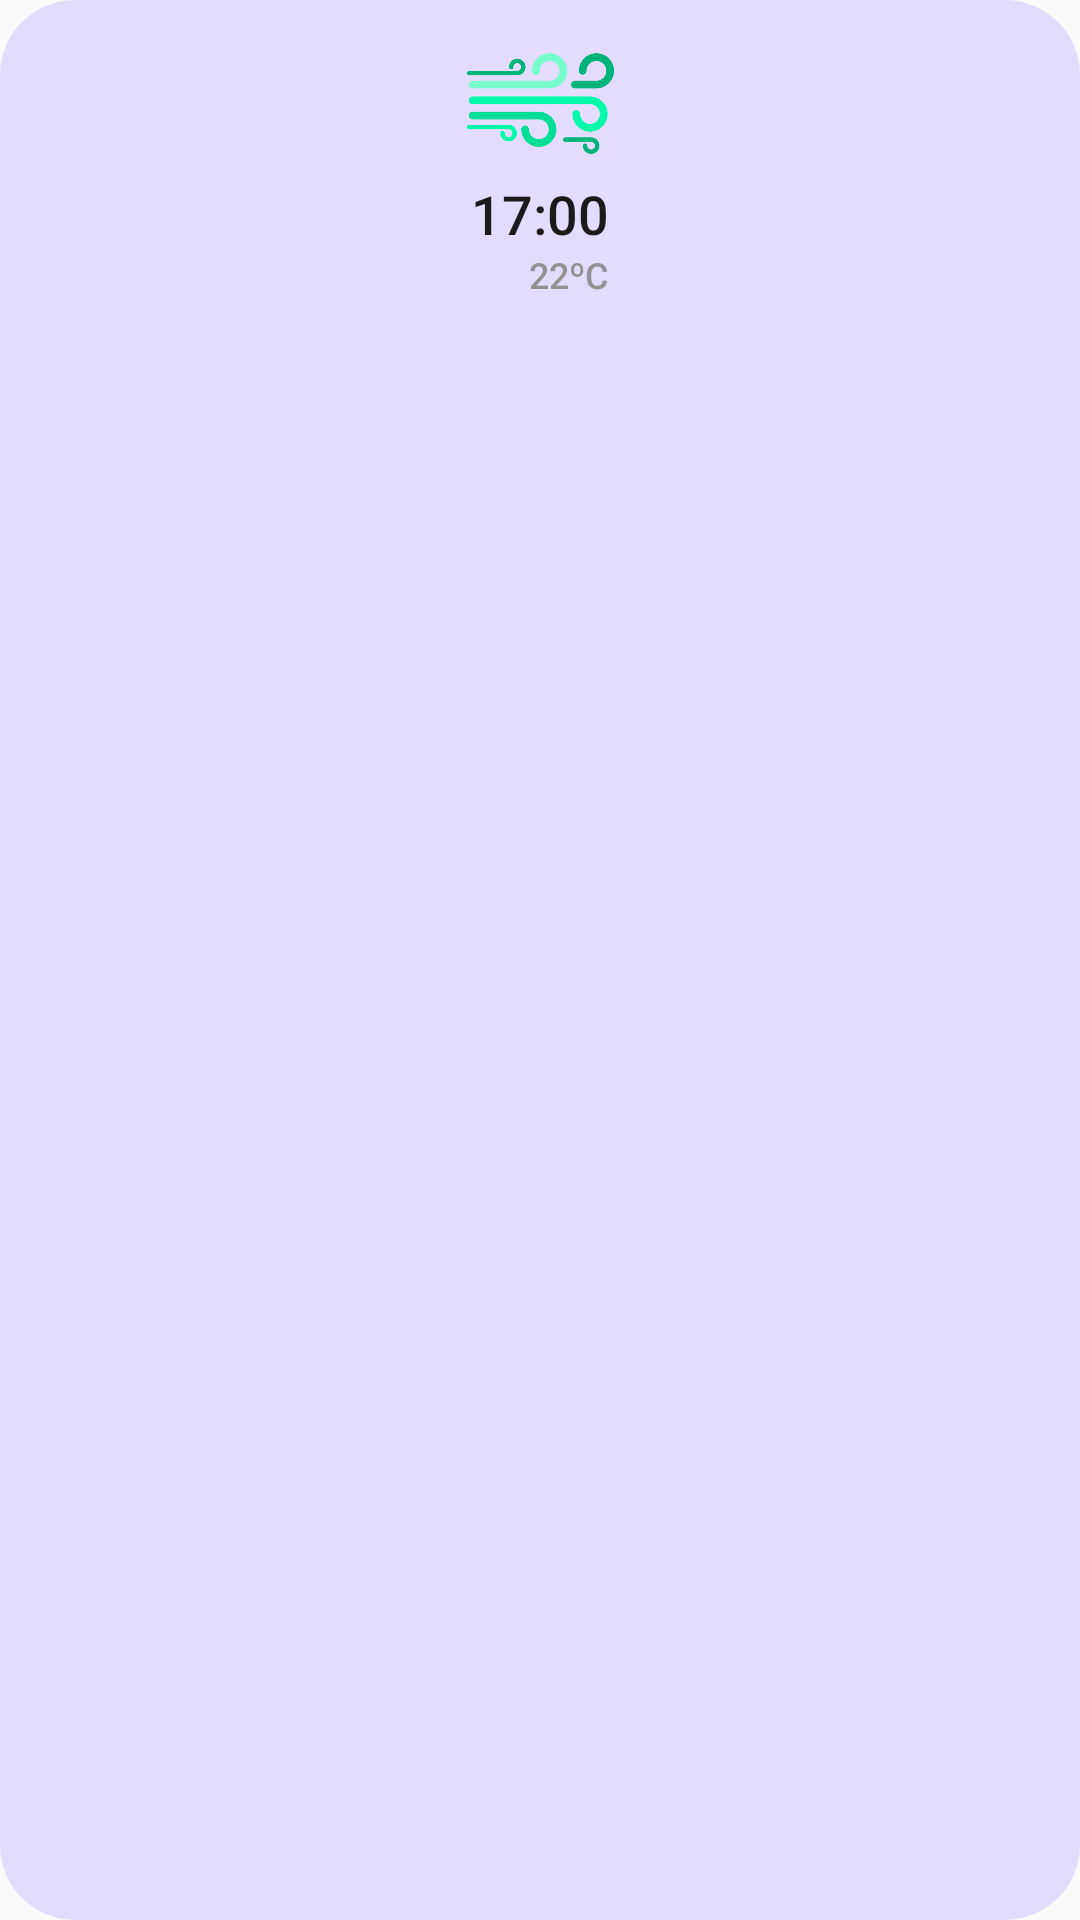

Named icons in this screenshot (1080w x 1920h) and their centers, (x,y):
wind: (540,103)
